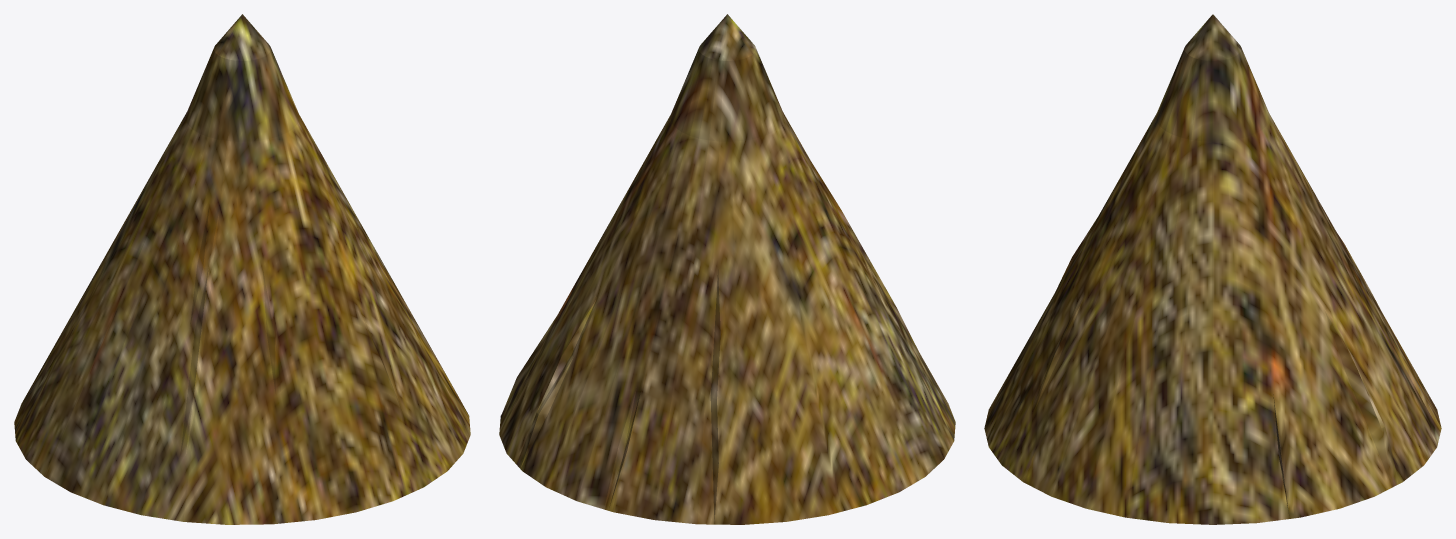
The model's file is StrawField.fbx.
3 renders of one model, left to right at view 1: azimuth 30°, elevation 25°; view 2: azimuth 150°, elevation 25°; view 3: azimuth 270°, elevation 25°, orthographic.
Visible parts, largest first — view 1: Cone; view 2: Cone; view 3: Cone.
Part boxes in pixels (left/top/right/bottom): Cone: left=14, top=14, right=470, bottom=524; Cone: left=499, top=14, right=955, bottom=524; Cone: left=984, top=14, right=1441, bottom=524.
Bounding box in the file's own units: 800 × 800 × 800.
